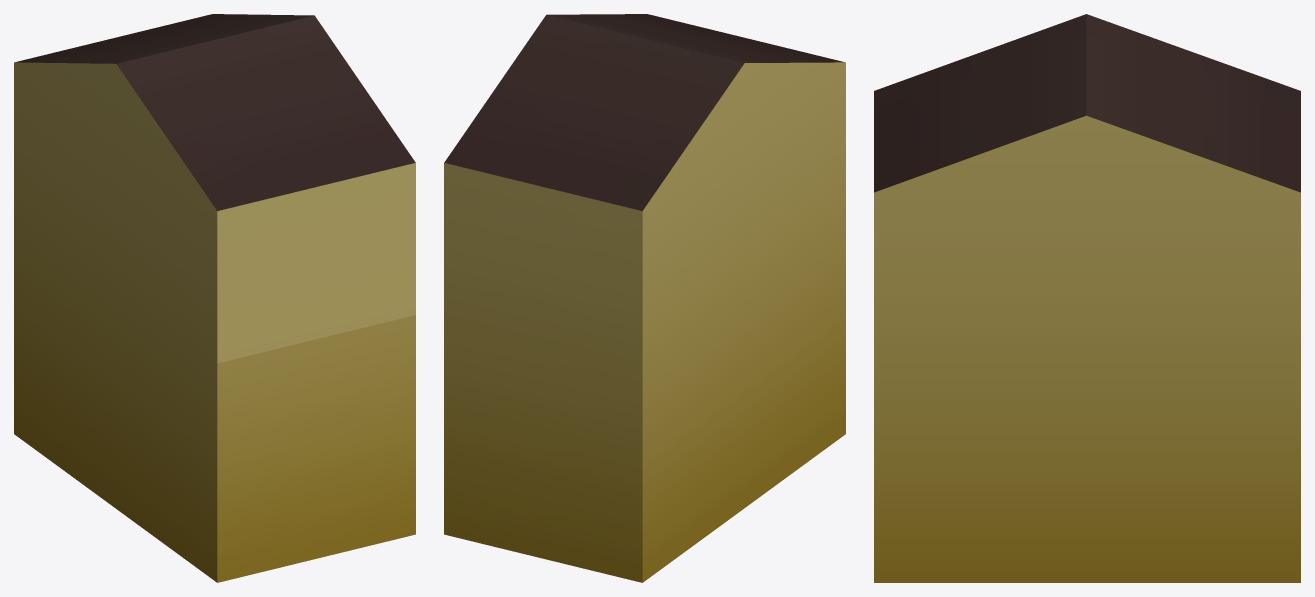
File: SM_CityVistaBuilding_01.fbx
The picture shows the model from 3 angles, left to right: view 1: azimuth 30°, elevation 25°; view 2: azimuth 150°, elevation 25°; view 3: azimuth 270°, elevation 25°; orthographic projection. The views are drawn at different scales.
Visible parts, largest first — view 1: SM_CityVistaBuilding_01; view 2: SM_CityVistaBuilding_01; view 3: SM_CityVistaBuilding_01.
Boxes of the visible parts, box(x1,y1,x2,y2) form: SM_CityVistaBuilding_01: box(14, 14, 415, 582); SM_CityVistaBuilding_01: box(444, 14, 845, 582); SM_CityVistaBuilding_01: box(874, 14, 1300, 582).
Bounding box in the file's own units: 5.6 × 12 × 9.94.
